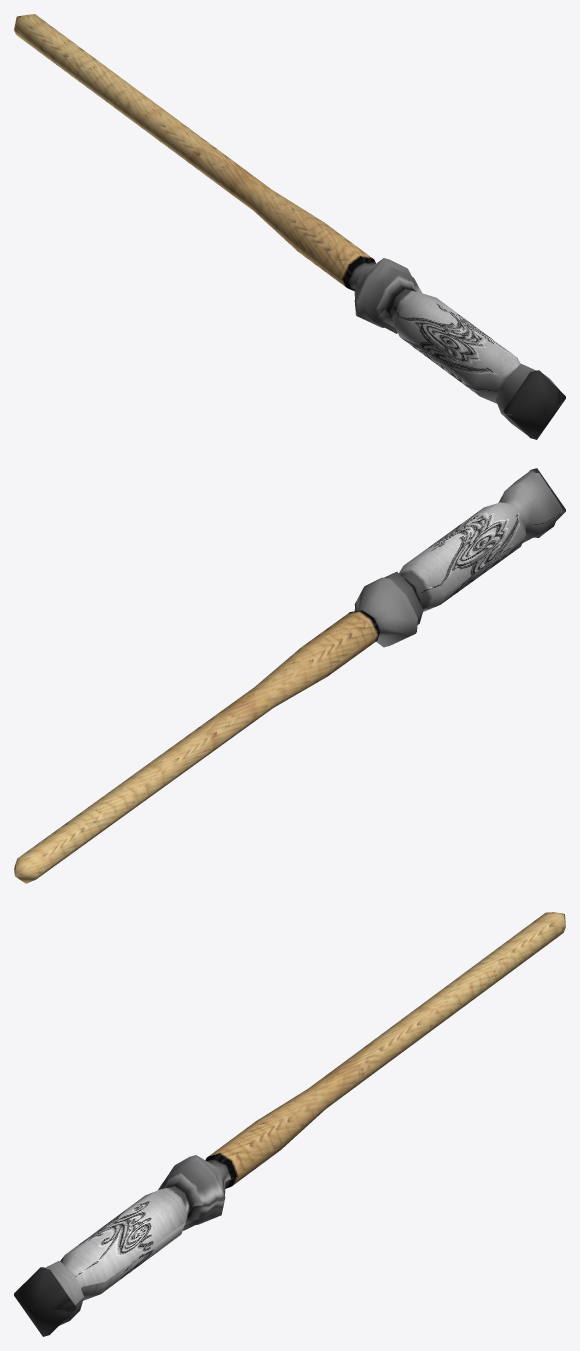
File: Wand_01.fbx
3 renders of one model, top to bottom at view 1: azimuth 30°, elevation 25°; view 2: azimuth 150°, elevation 25°; view 3: azimuth 330°, elevation 25°, orthographic.
Parts seen in each view (by area): view 1: C_psula; view 2: C_psula; view 3: C_psula.
Part boxes in pixels (x1=…): C_psula: x1=14, y1=14, x2=565, y2=439; C_psula: x1=14, y1=468, x2=565, y2=883; C_psula: x1=14, y1=912, x2=565, y2=1336.
Size of the model in its own units: 27.92 by 29.93 by 413.
Materials: 1 (1 with a texture image).
